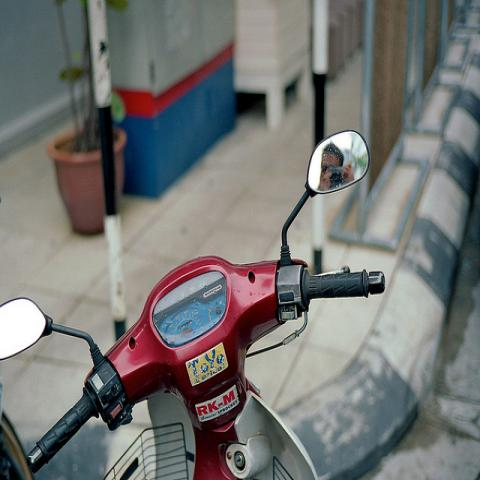motorcycle: (1, 126, 380, 472)
